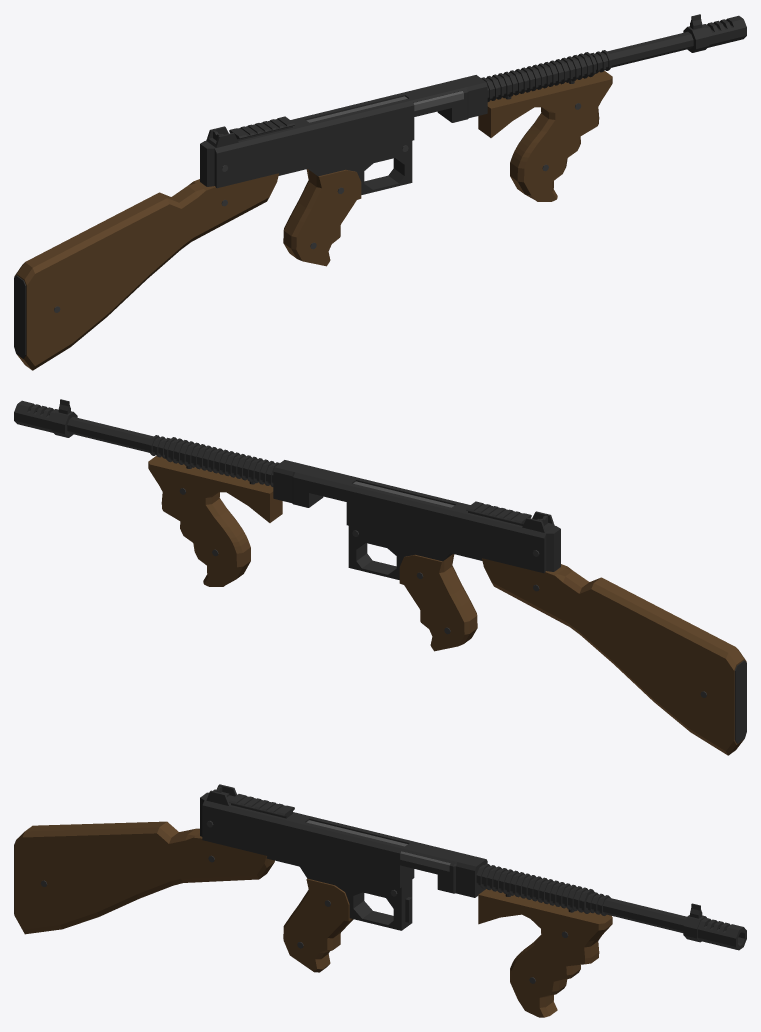
Rendered from LMG4_02.fbx.
3 renders of one model, top to bottom at view 1: azimuth 30°, elevation 25°; view 2: azimuth 150°, elevation 25°; view 3: azimuth 330°, elevation 25°, orthographic.
Visible parts, largest first — view 1: LMG4_02; view 2: LMG4_02; view 3: LMG4_02.
Part boxes in pixels (box(x1,y1,x2,y2)): LMG4_02: box(14, 14, 746, 370); LMG4_02: box(14, 399, 746, 755); LMG4_02: box(14, 784, 746, 1017).
Bounding box in the file's own units: 0.9676 × 0.2429 × 0.036.
